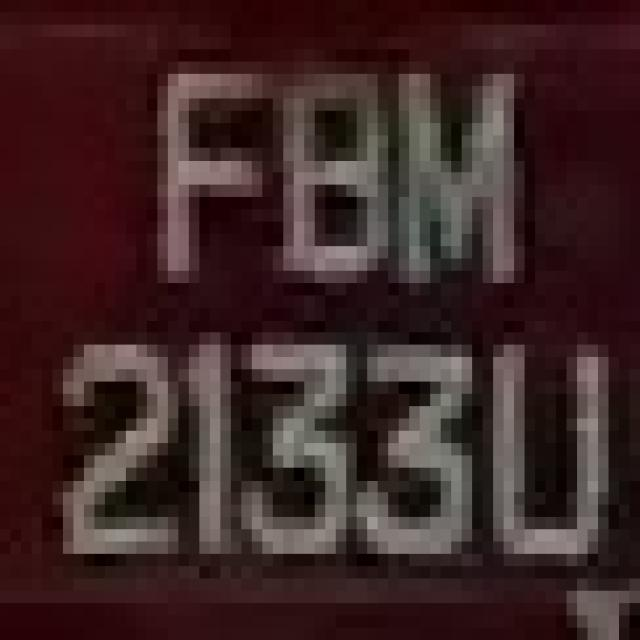1: (168, 296, 231, 578)
2: (42, 307, 168, 578)
3: (210, 295, 357, 603), (346, 308, 472, 542)
B: (252, 37, 398, 295)
F: (147, 12, 262, 296)
M: (367, 37, 535, 308)
U: (462, 320, 608, 566)
